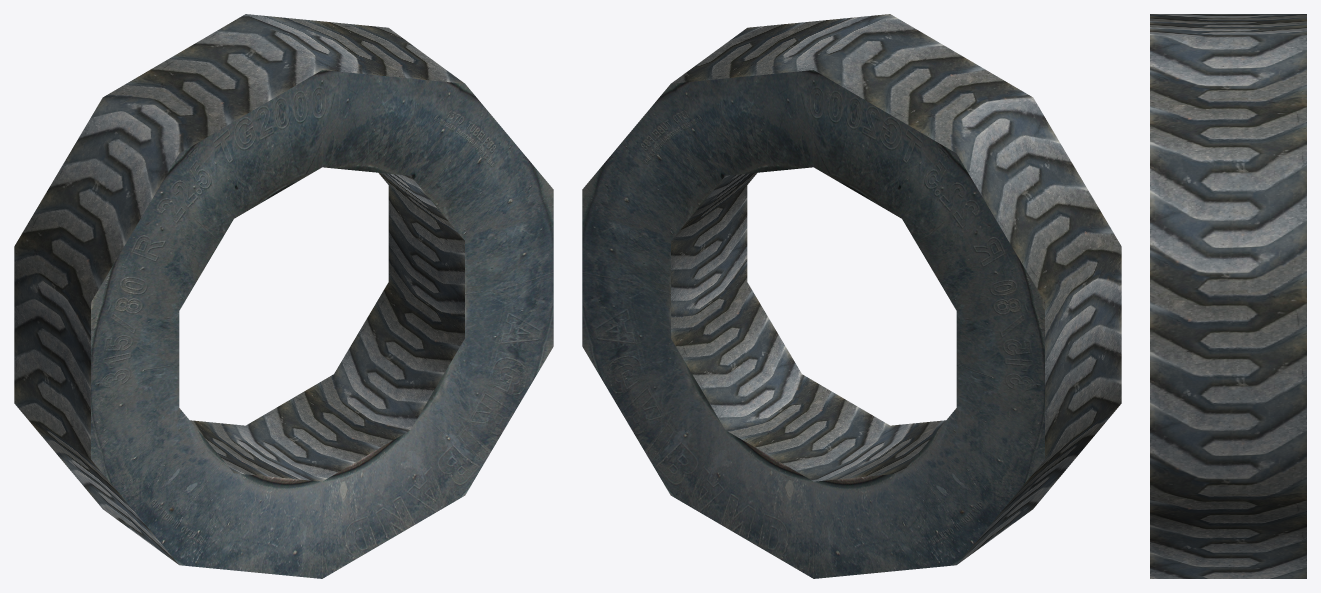
Rendered from tyre2_LOD2.fbx.
3 renders of one model, left to right at view 1: azimuth 30°, elevation 25°; view 2: azimuth 150°, elevation 25°; view 3: azimuth 270°, elevation 25°, orthographic. The views are drawn at different scales.
Visible parts, largest first — view 1: Mesh_Object; view 2: Mesh_Object; view 3: Mesh_Object.
Boxes of the visible parts, box(x1,y1,x2,y2) form: Mesh_Object: box(14, 14, 553, 578); Mesh_Object: box(582, 14, 1121, 578); Mesh_Object: box(1150, 14, 1306, 578).
Bounding box in the file's own units: 83.69 × 88 × 24.
